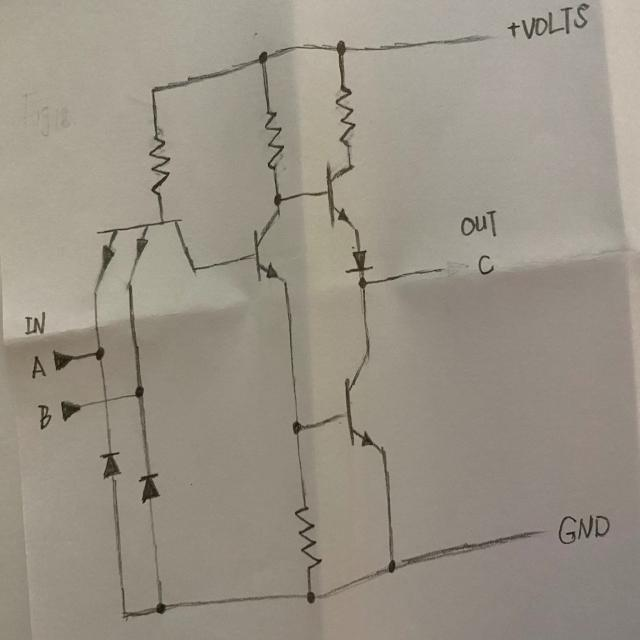crossover: (101, 394, 110, 404)
diode: (96, 444, 125, 488), (136, 469, 165, 504), (344, 247, 375, 274)
junction: (131, 377, 148, 406), (117, 598, 134, 626), (383, 553, 402, 577), (90, 339, 109, 362), (290, 412, 304, 442), (255, 46, 271, 70), (334, 35, 348, 62), (302, 586, 320, 607), (146, 78, 162, 100), (270, 190, 287, 208), (154, 600, 172, 616), (357, 276, 371, 292)
resistor: (292, 498, 326, 574), (146, 128, 172, 200), (261, 104, 287, 174), (332, 80, 358, 149)
terminal: (525, 514, 554, 543), (59, 396, 85, 423), (430, 255, 456, 281), (51, 347, 75, 372), (476, 24, 498, 50)
text: (521, 1, 594, 41), (556, 510, 610, 546), (458, 207, 499, 242), (19, 308, 48, 338), (28, 352, 47, 382), (476, 251, 496, 278), (36, 401, 52, 432), (506, 19, 520, 38)
transistor: (89, 211, 200, 299), (335, 344, 392, 458), (245, 209, 293, 291), (318, 156, 362, 234)
